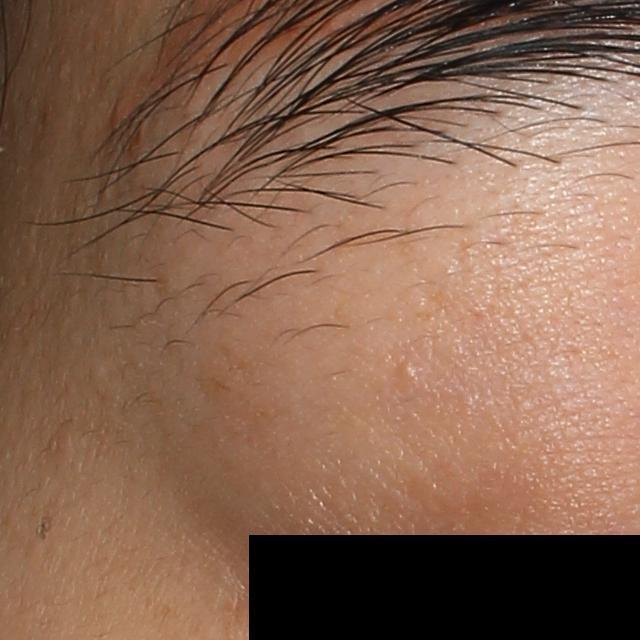comedo: (391, 357, 418, 383)
